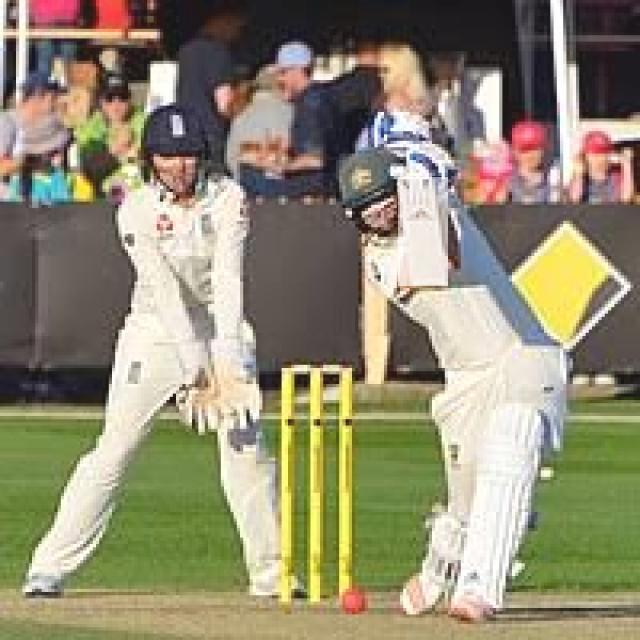bat: (400, 175, 452, 289)
toe: (415, 280, 448, 294)
